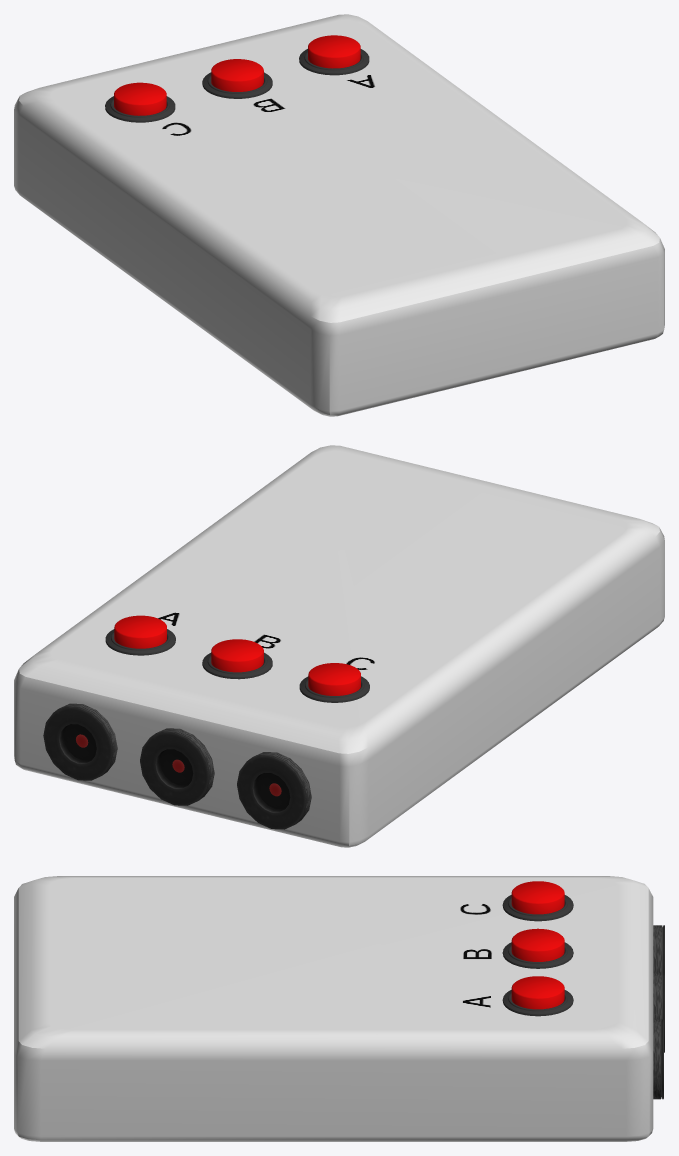
The model's file is laser.glb.
3 views of the same model, one above another, from view 1: azimuth 30°, elevation 25°; view 2: azimuth 150°, elevation 25°; view 3: azimuth 270°, elevation 25° (orthographic).
Parts seen in each view (by area): view 1: _holes_laser_pointer, _holes_laser_pointer.001, _holes_laser_pointer.002, _holes_laser_pointer.003; view 2: _holes_laser_pointer, _holes_laser_pointer.001, _holes_laser_pointer.003, _holes_laser_pointer.002; view 3: _holes_laser_pointer, _holes_laser_pointer.001, _holes_laser_pointer.002, _holes_laser_pointer.003.
Part boxes in pixels (x1,y1,x2,y2): _holes_laser_pointer: (14,14,664,416); _holes_laser_pointer.001: (308,35,360,68); _holes_laser_pointer.002: (114,82,166,115); _holes_laser_pointer.003: (211,59,263,91); _holes_laser_pointer: (14,445,664,847); _holes_laser_pointer.001: (114,615,166,648); _holes_laser_pointer.003: (211,639,263,672); _holes_laser_pointer.002: (308,663,360,695); _holes_laser_pointer: (14,876,664,1141); _holes_laser_pointer.001: (511,976,564,1009); _holes_laser_pointer.002: (511,881,564,914); _holes_laser_pointer.003: (511,928,564,961).
Size of the model in its own units: 21.85 by 7.13 by 35.1.
Materials: 5 (5 with a texture image).
